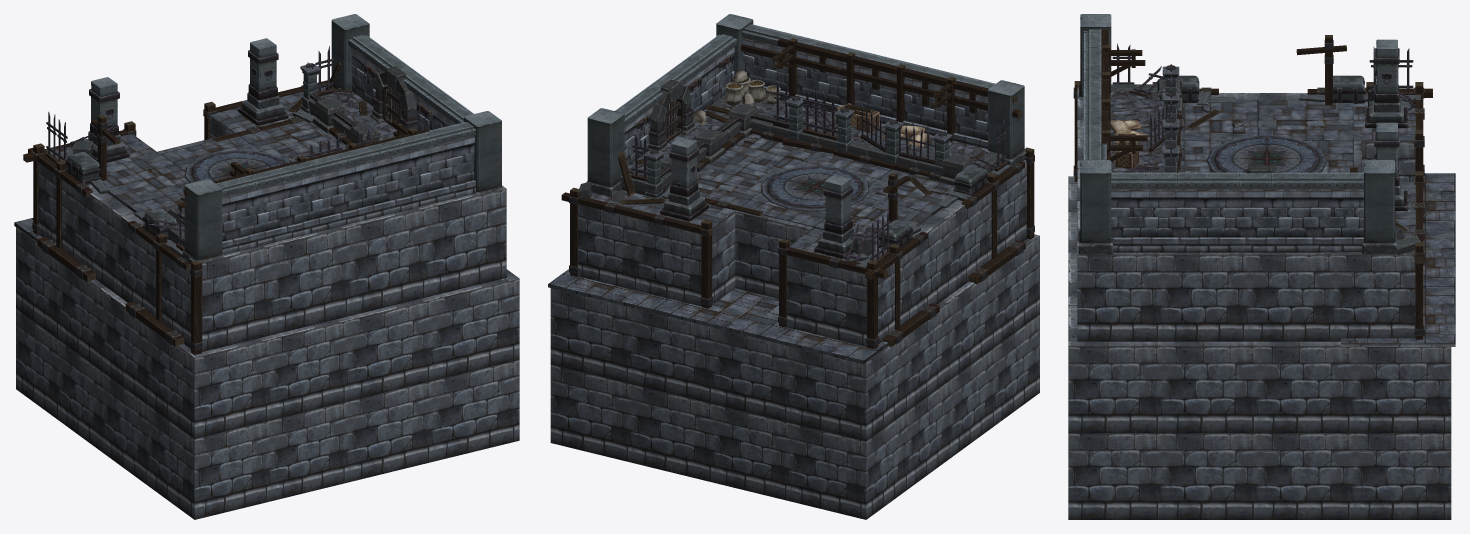
File: cell2LU_RD.fbx
3 views of the same model, side by side, from view 1: azimuth 30°, elevation 25°; view 2: azimuth 150°, elevation 25°; view 3: azimuth 270°, elevation 25° (orthographic). The views are drawn at different scales.
Visible parts, largest first — view 1: cell2LU_RD; view 2: cell2LU_RD; view 3: cell2LU_RD.
Part boxes in pixels (box(x1,y1,x2,y2)): cell2LU_RD: box(14, 14, 519, 519); cell2LU_RD: box(548, 14, 1039, 519); cell2LU_RD: box(1068, 14, 1455, 519).
Size of the model in its own units: 19.04 by 17.47 by 17.94.
